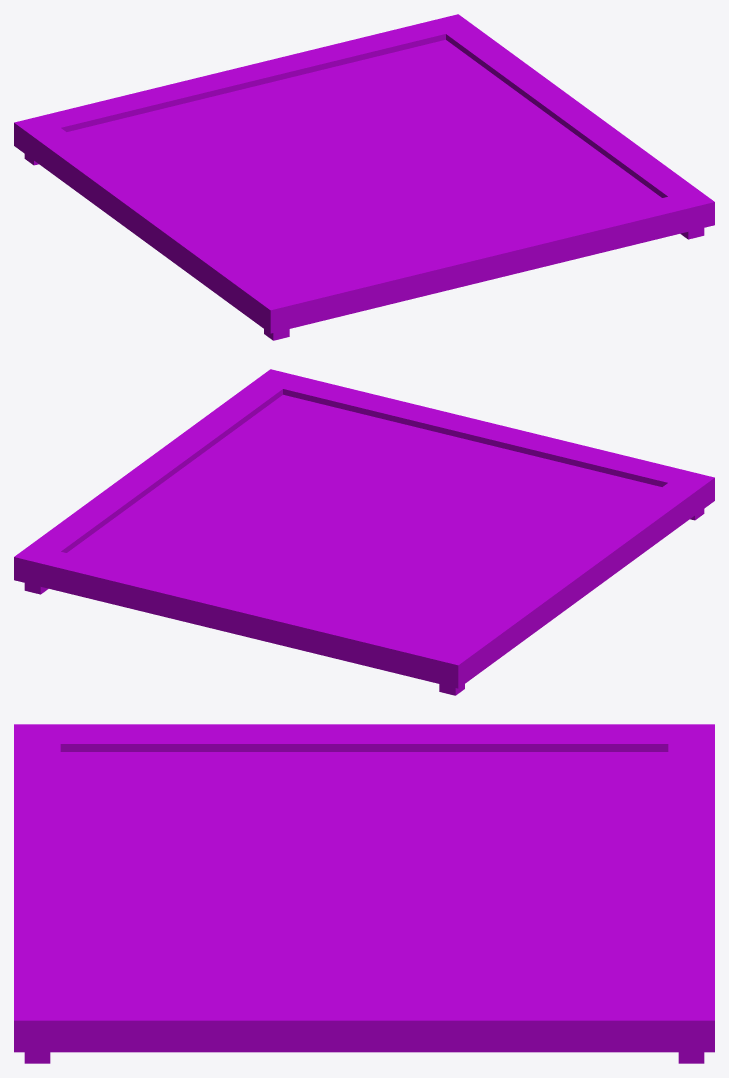
The model's file is moving_platform.fbx.
3 renders of one model, top to bottom at view 1: azimuth 30°, elevation 25°; view 2: azimuth 150°, elevation 25°; view 3: azimuth 270°, elevation 25°, orthographic. The views are drawn at different scales.
Parts seen in each view (by area): view 1: Cube; view 2: Cube; view 3: Cube.
Part boxes in pixels (box(x1,y1,x2,y2)): Cube: box(14, 14, 714, 340); Cube: box(14, 369, 714, 695); Cube: box(14, 724, 714, 1063).
Size of the model in its own units: 200 by 15 by 200.
